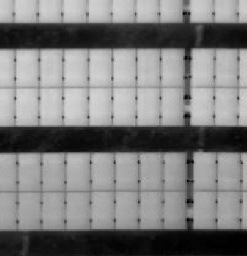solar: (12, 46, 41, 88), (37, 46, 66, 88), (62, 46, 91, 88), (86, 46, 115, 88), (111, 46, 140, 88), (133, 46, 162, 88), (157, 46, 186, 88), (187, 46, 216, 88), (212, 46, 241, 88), (212, 85, 241, 127), (187, 86, 216, 128), (157, 86, 186, 128), (134, 86, 163, 128), (109, 86, 138, 128), (85, 86, 114, 128), (61, 86, 90, 128), (36, 86, 65, 128), (11, 86, 40, 128), (14, 149, 43, 191), (38, 150, 67, 192), (63, 150, 92, 192), (88, 150, 117, 192), (112, 150, 141, 192), (136, 150, 165, 192), (160, 150, 189, 192), (191, 150, 220, 192), (215, 150, 244, 192), (214, 188, 243, 230), (189, 189, 218, 231), (160, 189, 189, 231), (135, 189, 164, 231), (112, 189, 141, 231), (87, 189, 116, 231), (63, 189, 92, 231), (38, 189, 67, 231), (14, 188, 43, 230)
